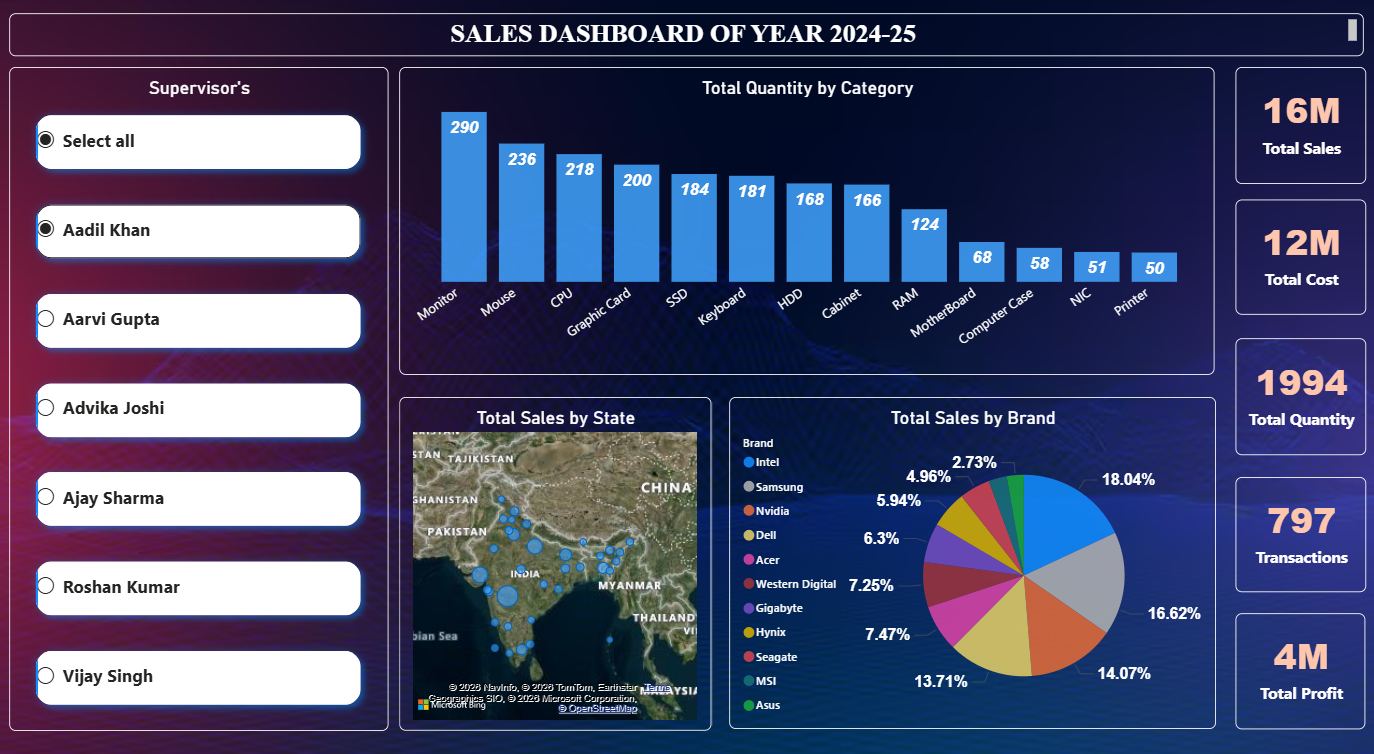

The page's visual inventory and layout, read from the dashboard file:
{"tool":"powerbi","page":{"name":"Page 1","canvas":[1280,720],"ordinal":0},"visuals":[{"type":"textbox","box":[10,15,1260,40],"z":0},{"type":"card","fields":{"Values":["Sales_Data.Total_Sales"]},"box":[1151.2,65,121.2,108.8],"z":1000},{"type":"card","fields":{"Values":["Sales_Data.Total_Cost"]},"box":[1151.2,188.8,121.2,107.5],"z":2000},{"type":"card","fields":{"Values":["Sales_Data.Quantity"]},"box":[1151.2,317.5,121.2,108.8],"z":3000},{"type":"card","fields":{"Values":["Sales_Data.Order_Number"]},"box":[1151.2,446.2,121.2,107.5],"z":4000},{"type":"card","fields":{"Values":["Sales_Data.Total_Profit"]},"box":[1150,573.8,121.2,107.5],"z":5000},{"type":"clusteredColumnChart","fields":{"Y":["Sales_Data.Quantity"],"Category":["Sales_Data.Category"]},"box":[373.8,65,758.8,286.2],"z":6000},{"type":"pieChart","title":"Total Sales by Brand","fields":{"Y":["Sales_Data.Total_Sales"],"Category":["Sales_Data.Brand"]},"box":[680,372.5,452.5,308.8],"z":7000},{"type":"map","title":"Total Sales by State","fields":{"Category":["State_list.State"],"Size":["Sales_Data.Total_Sales"]},"box":[373.8,372.5,290,310],"z":7001},{"type":"listSlicer","title":"Supervisor''s","fields":{"Values":["Supervisor.Supervisor"]},"box":[10,65,352.5,617.5],"z":7002}]}

Visuals, with their boxes in screenshot pixels (x1, y1, x2, y2), scaled from the page's 1280x720 canvas onto the 1374x754 screenshot:
textbox: l=11, t=16, r=1363, b=58
card - Sales_Data.Total_Sales: l=1236, t=68, r=1366, b=182
card - Sales_Data.Total_Cost: l=1236, t=198, r=1366, b=310
card - Sales_Data.Quantity: l=1236, t=332, r=1366, b=446
card - Sales_Data.Order_Number: l=1236, t=467, r=1366, b=580
card - Sales_Data.Total_Profit: l=1234, t=601, r=1365, b=713
clusteredColumnChart - Sales_Data.Quantity x Sales_Data.Category: l=401, t=68, r=1216, b=368
"Total Sales by Brand" pieChart: l=730, t=390, r=1216, b=713
"Total Sales by State" map: l=401, t=390, r=713, b=715
"Supervisor''s" listSlicer: l=11, t=68, r=389, b=715
